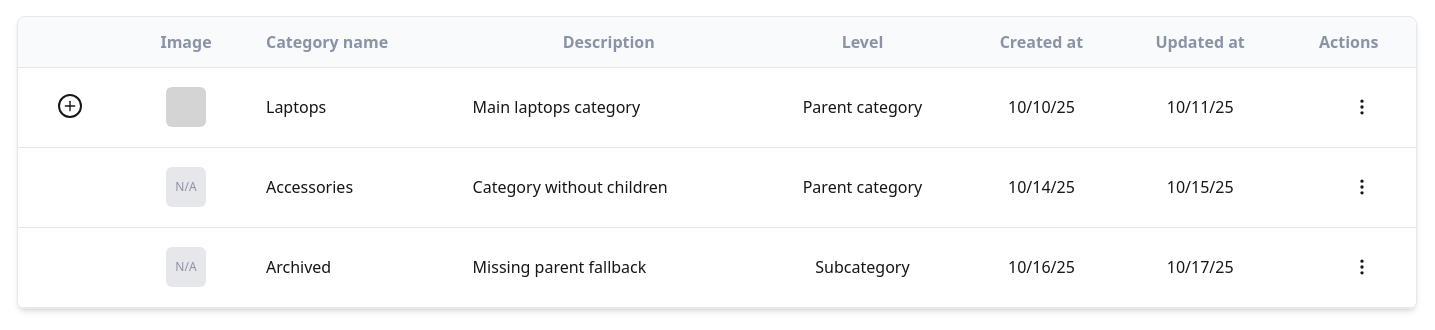
Test case: UI Component: TableCategories › should render image fallback and action menu actions
The width and height of the screenshot is (1435, 330).
Expected: the text "N/A" next to "Accessories" is shown, [175,178,197,195]
Click the button named "Actions for Accessories" at [1362, 187], box [1332,166,1392,208]
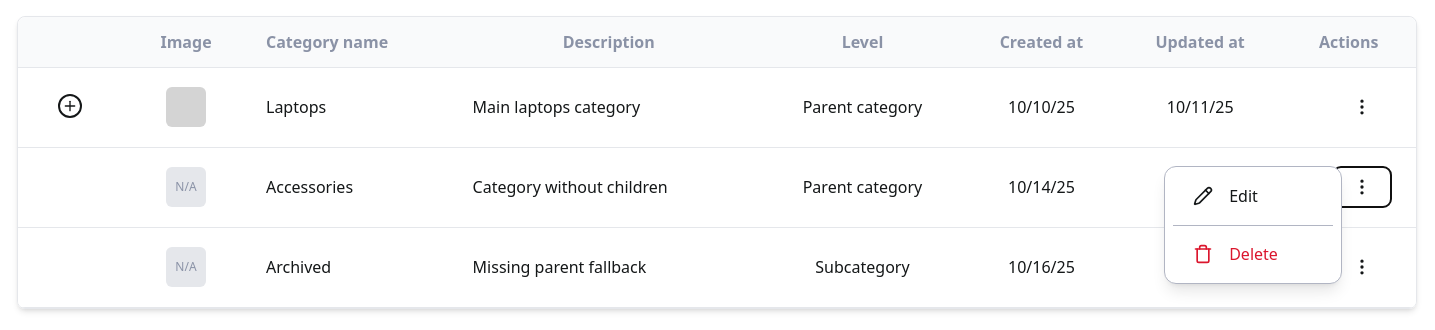
Result: the button "Edit" is shown
Result: the button "Delete" is shown at [1173,234,1298,275]
Click the button "Edit" at [1226, 196], box [1173,175,1278,217]
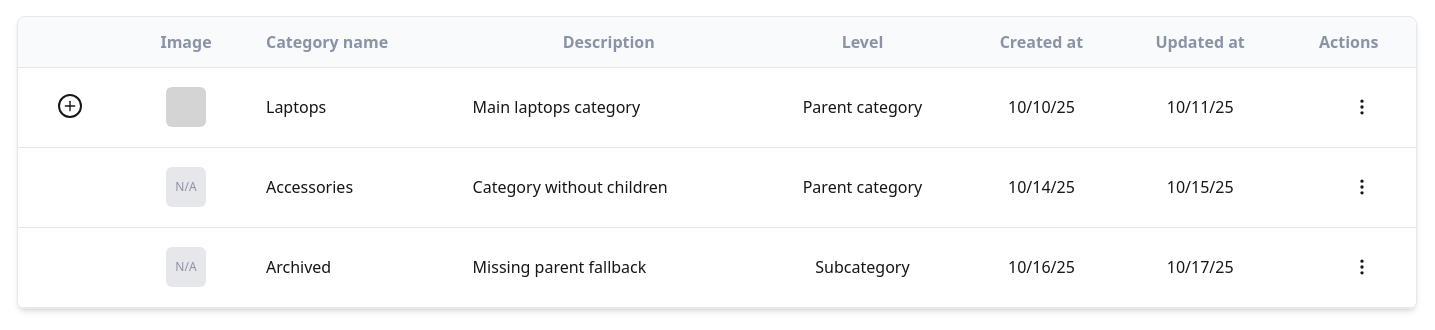
Click the button named "Actions for Accessories" at [1362, 187], box [1332,166,1392,208]
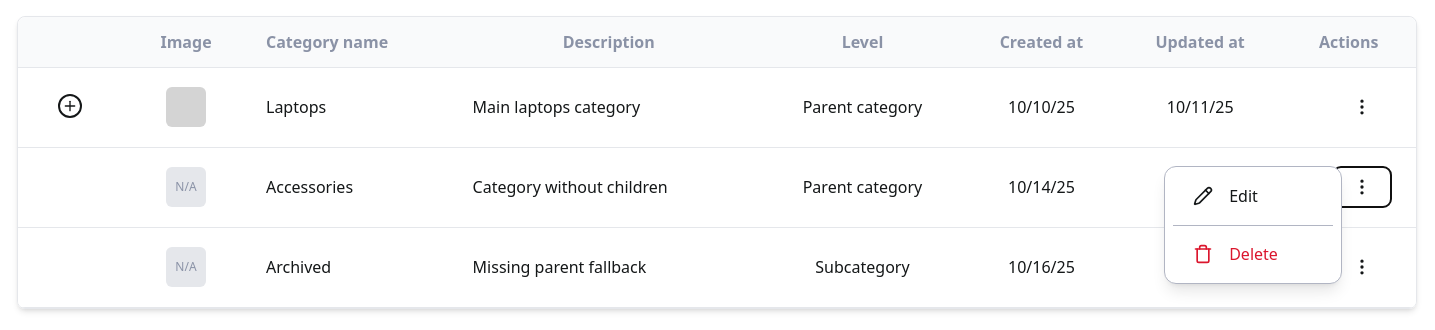
Click the button "Delete" at [1236, 254], box [1173,234,1298,275]
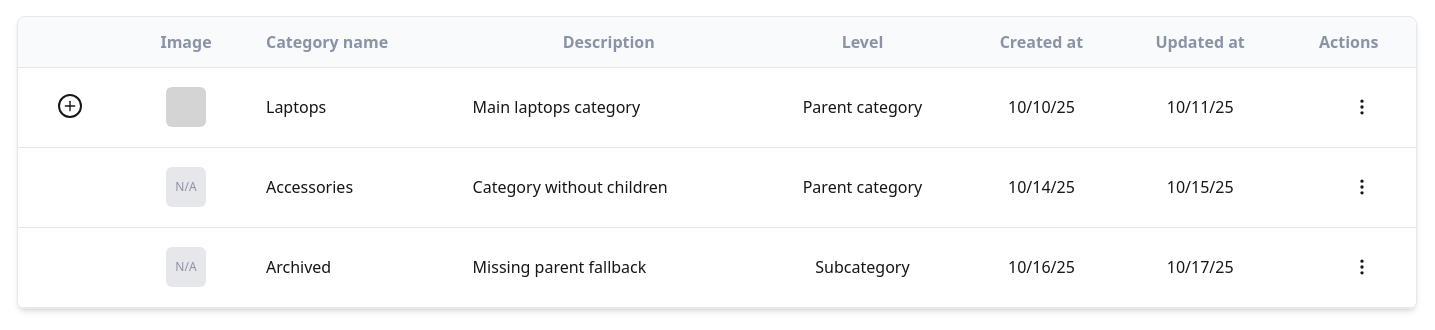
Click the button named "Actions for Laptops" at [1362, 107], box [1332,86,1392,128]
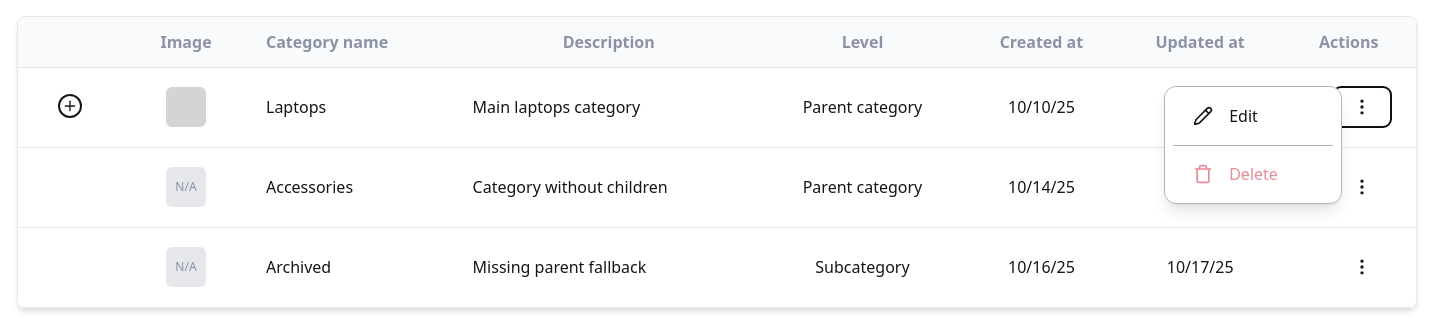
Result: the button "Delete" is disabled at [1173,154,1298,195]
